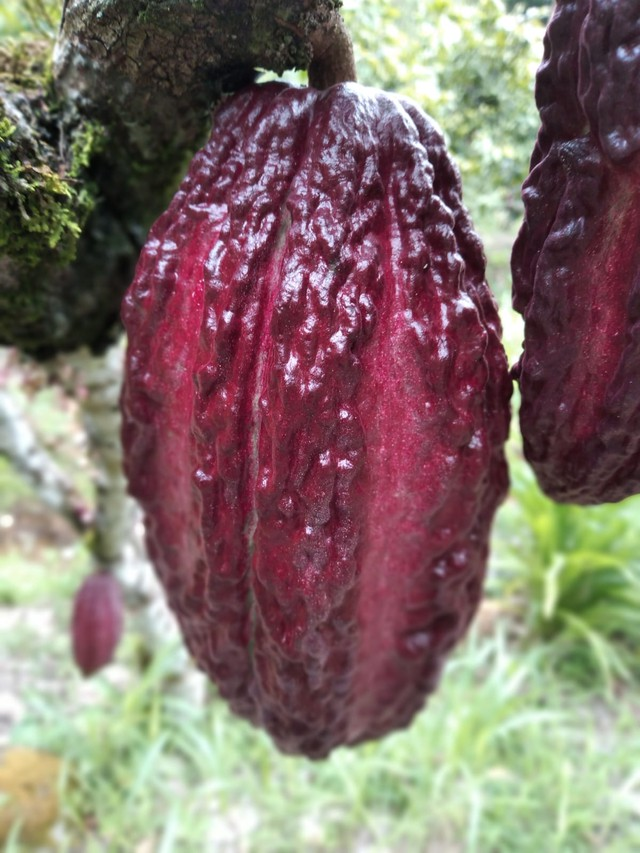Health: (93, 67, 524, 776)
